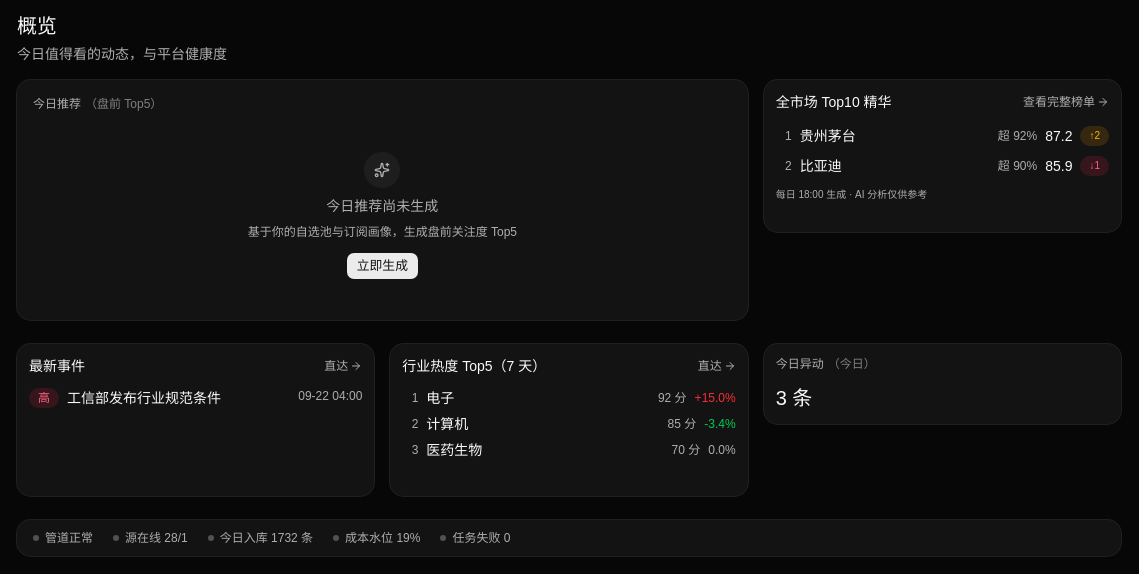
Test: Overview 今日推荐主位（保留零回归） › 推荐卡·规则兜底：status=2 渲染 Top5 并带「规则排序」角标
This screenshot has width=1139, height=574.
Check: the element with test id "rec-pending" is shown, box [248,152,517,280]
Step 1. Click the button with test id "rec-generate" → point(382, 266), box [346,252,419,280]
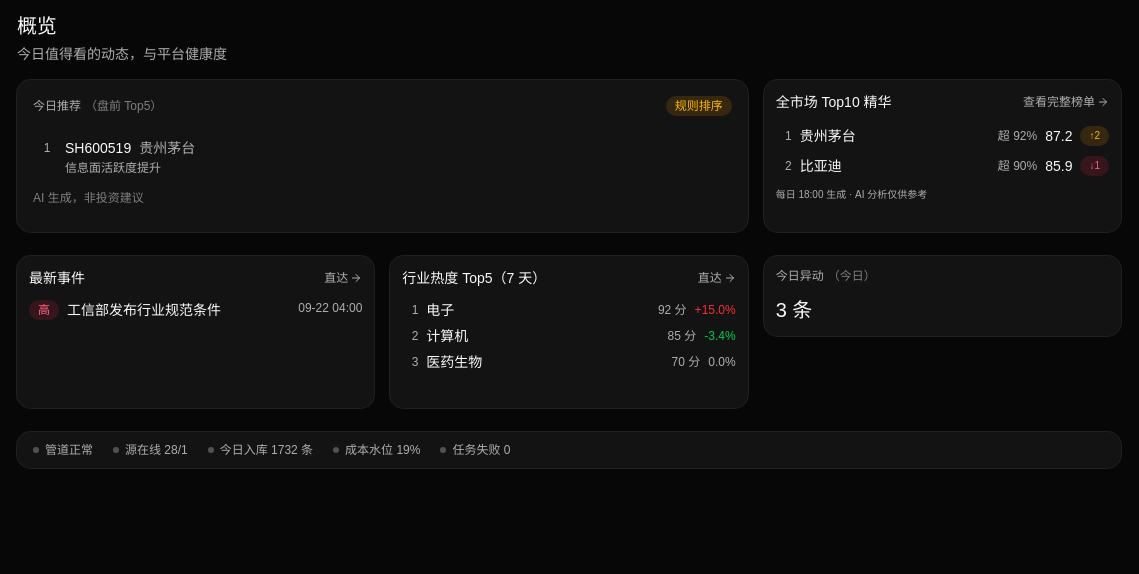
Check: the text with test id "rec-fallback-badge" reads "规则排序", box [675,99,723,113]
Check: the link with test id "rec-item-1" shows "贵州茅台", box [44,140,195,175]
